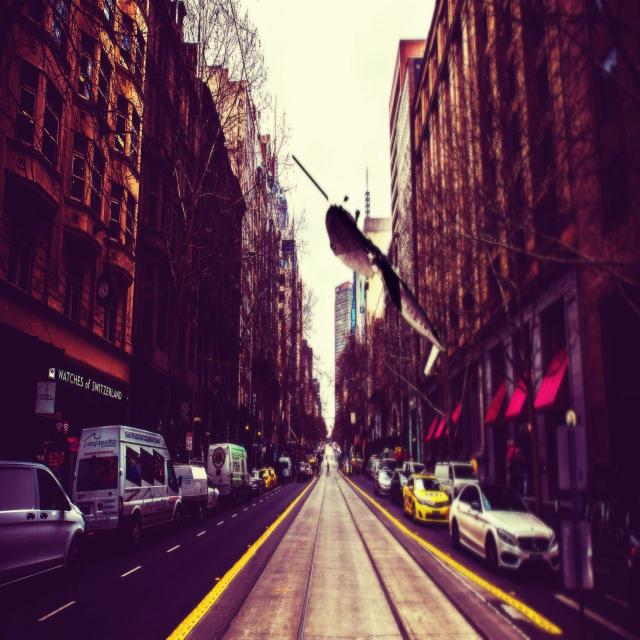airplane: (291, 153, 446, 379)
